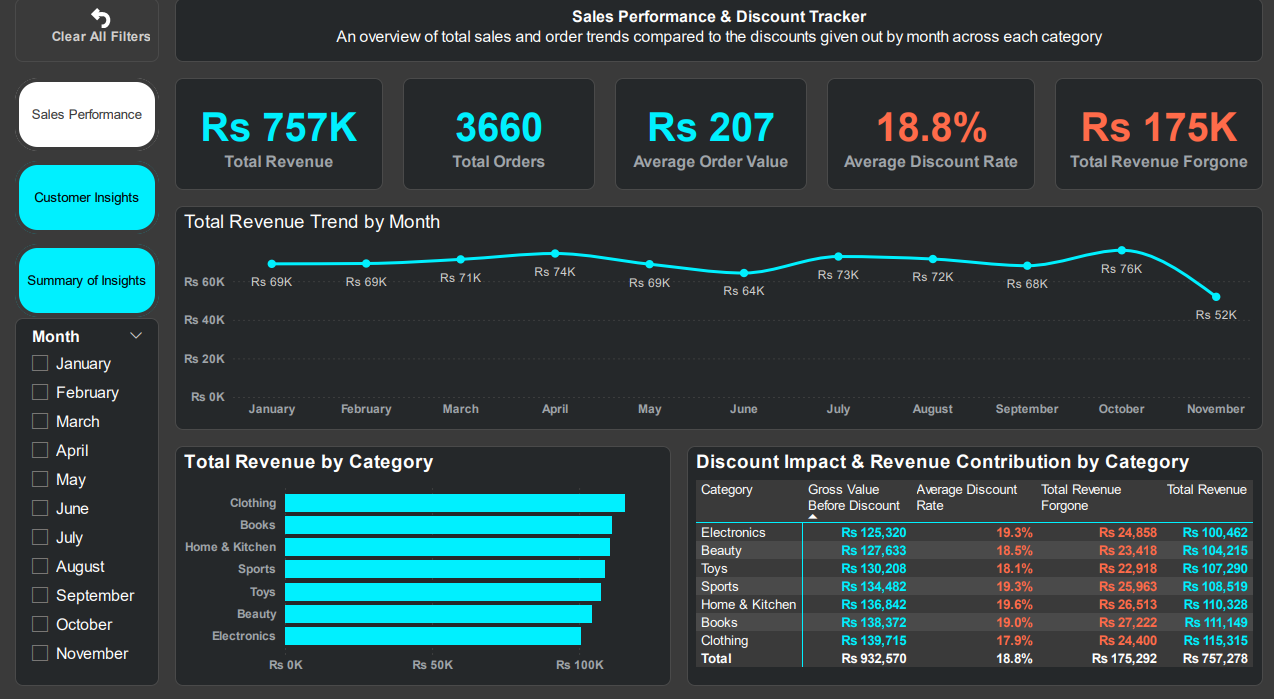

What the dashboard file says about the page in this screenshot:
{"tool":"powerbi","page":{"name":"Sales Performance","canvas":[1280,720],"ordinal":0},"visuals":[{"type":"card","fields":{"Values":["All Measures.Total Revenue"]},"box":[176,80,208,112],"z":0},{"type":"card","fields":{"Values":["All Measures.Total Orders"]},"box":[404,80,192,112],"z":1000},{"type":"card","fields":{"Values":["All Measures.Average Discount Rate"]},"box":[828,80,208,112],"z":2000},{"type":"clusteredBarChart","fields":{"Category":["Dim_product.Category"],"Y":["All Measures.Total Revenue"]},"box":[176,448,496,240],"z":3000},{"type":"pivotTable","title":"Discount Impact & Revenue Contribution by Category","fields":{"Rows":["Dim_product.Category"],"Values":["All Measures.Gross Value Before Discount","All Measures.Average Discount Rate","All Measures.Total Revenue Forgone","All Measures.Total Revenue"]},"box":[688,448,576,240],"z":4000},{"type":"slicer","fields":{"Values":["Fact_Sales.Month Name"]},"box":[16,320,144,368],"z":5000},{"type":"card","fields":{"Values":["All Measures.Average Order Value"]},"box":[616,80,192,112],"z":6000},{"type":"textbox","box":[176,0,1088,64],"z":7000},{"type":"actionButton","box":[16,0,144,64],"z":8000},{"type":"card","fields":{"Values":["All Measures.Total Revenue Forgone"]},"box":[1056,80,208,112],"z":9000},{"type":"pageNavigator","box":[16,80,144,240],"z":10000},{"type":"lineChart","title":"Total Revenue Trend by Month","fields":{"Y":["All Measures.Total Revenue"],"Category":["Fact_Sales.Month Name"]},"box":[176,208,1088,224],"z":11000}]}

Visuals, with their boxes in screenshot pixels (x1, y1, x2, y2), scaled from the page's 1280x720 canvas onto the 1274x699 screenshot:
card - All Measures.Total Revenue: <region>175, 78, 382, 186</region>
card - All Measures.Total Orders: <region>402, 78, 593, 186</region>
card - All Measures.Average Discount Rate: <region>824, 78, 1031, 186</region>
clusteredBarChart - Dim_product.Category x All Measures.Total Revenue: <region>175, 435, 669, 668</region>
"Discount Impact & Revenue Contribution by Category" pivotTable: <region>685, 435, 1258, 668</region>
slicer - Fact_Sales.Month Name: <region>16, 311, 159, 668</region>
card - All Measures.Average Order Value: <region>613, 78, 804, 186</region>
textbox: <region>175, 0, 1258, 62</region>
actionButton: <region>16, 0, 159, 62</region>
card - All Measures.Total Revenue Forgone: <region>1051, 78, 1258, 186</region>
pageNavigator: <region>16, 78, 159, 311</region>
"Total Revenue Trend by Month" lineChart: <region>175, 202, 1258, 419</region>
